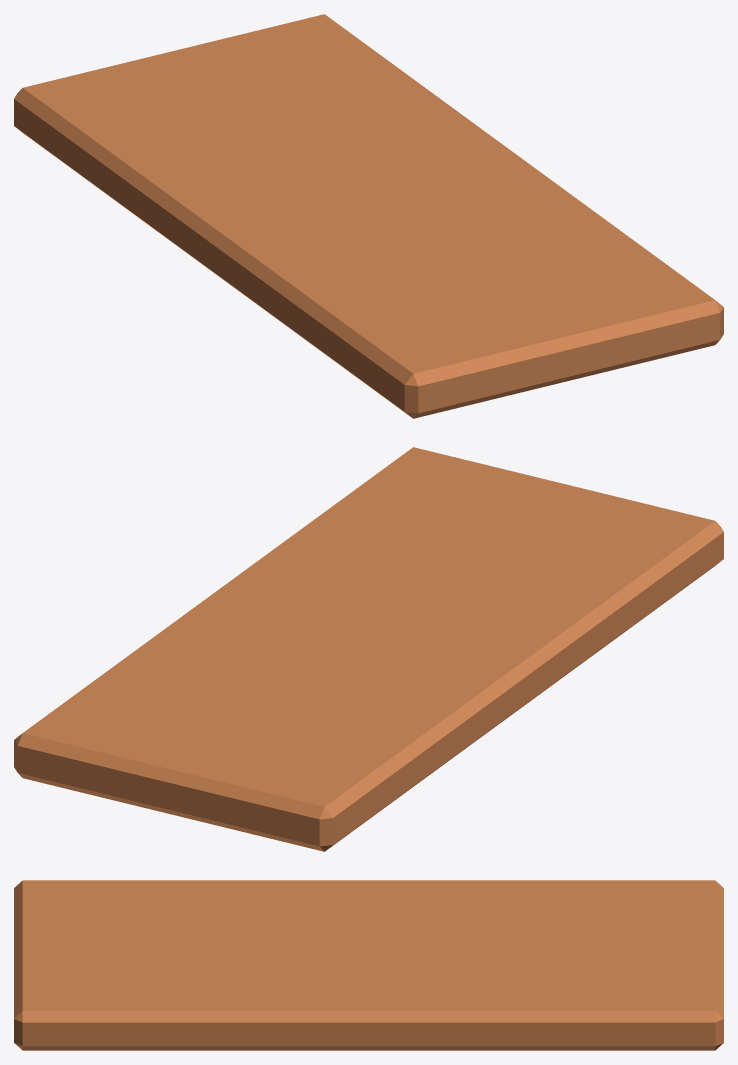
The model's file is Platform.fbx.
3 views of the same model, one above another, from view 1: azimuth 30°, elevation 25°; view 2: azimuth 150°, elevation 25°; view 3: azimuth 270°, elevation 25° (orthographic). The views are drawn at different scales.
Visible parts, largest first — view 1: pCube9; view 2: pCube9; view 3: pCube9.
Part boxes in pixels (<box>): pCube9: <box>14,14,723,418</box>; pCube9: <box>14,447,723,851</box>; pCube9: <box>14,880,723,1050</box>.
Bounding box in the file's own units: 2.3 × 0.31 × 5.
